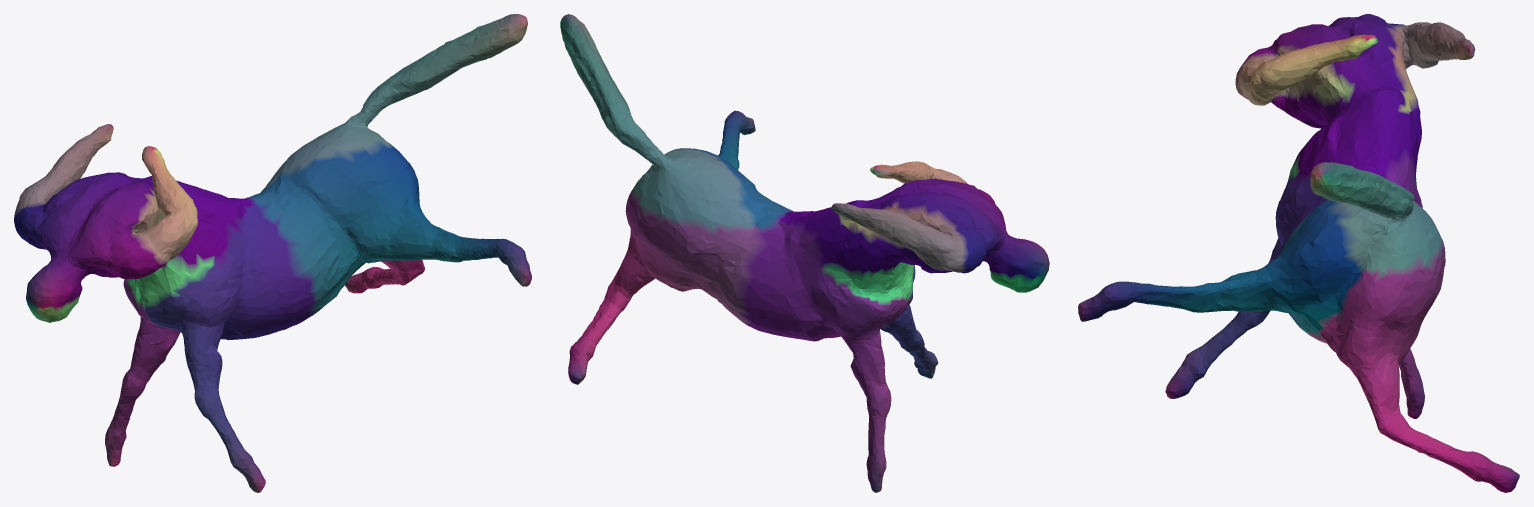
File: centaur-19.off.obj
3 views of the same model, side by side, from view 1: azimuth 30°, elevation 25°; view 2: azimuth 150°, elevation 25°; view 3: azimuth 270°, elevation 25° (orthographic). The views are drawn at different scales.
Size of the model in its own units: 1.41 by 1.04 by 0.8892.
